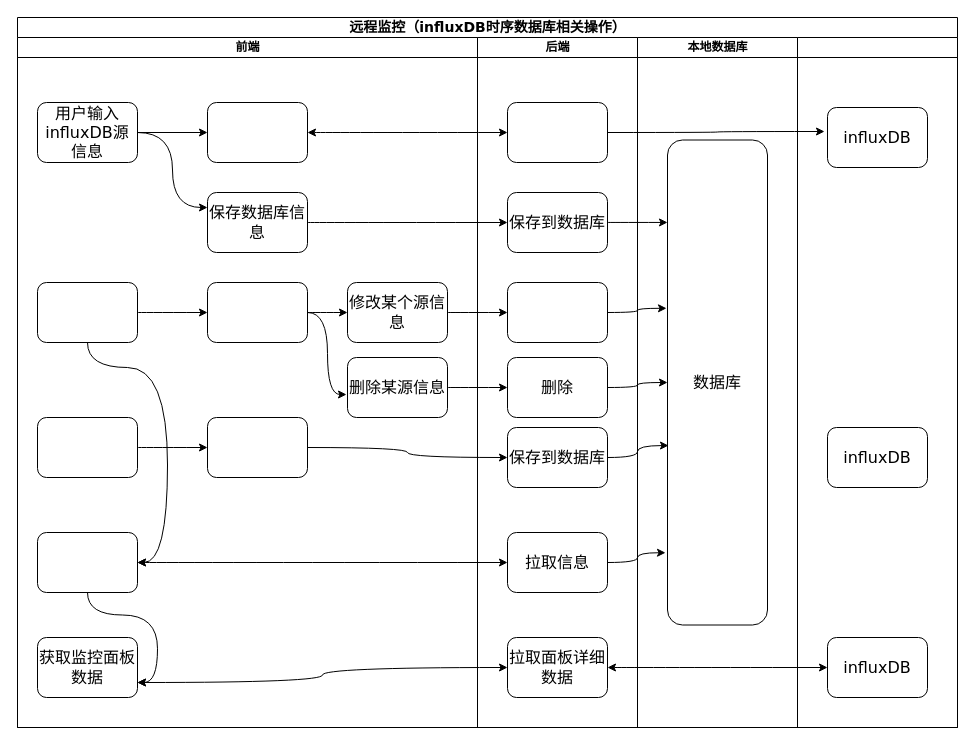
The diagram is 975 pixels wide and 745 high, and some of its shapes have lost their labels. Each missing label, with the box of its shape:
保存面板信息: (206, 416, 308, 478)
发送测试请求: (506, 102, 608, 162)
新建监控面板: (36, 416, 138, 478)
更新到数据库: (506, 282, 608, 342)
测试是否可以ping通: (206, 102, 308, 162)
获取对应数据源监控面板信息: (36, 532, 138, 592)
获取所有数据源列表: (36, 282, 138, 342)
获取某个数据源详情: (206, 282, 308, 342)
远端数据源: (796, 36, 958, 728)
